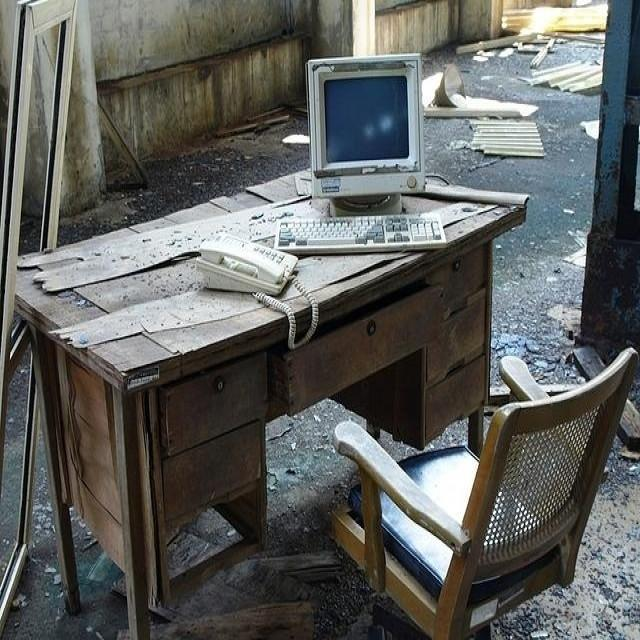E-waste: (188, 44, 510, 339)
